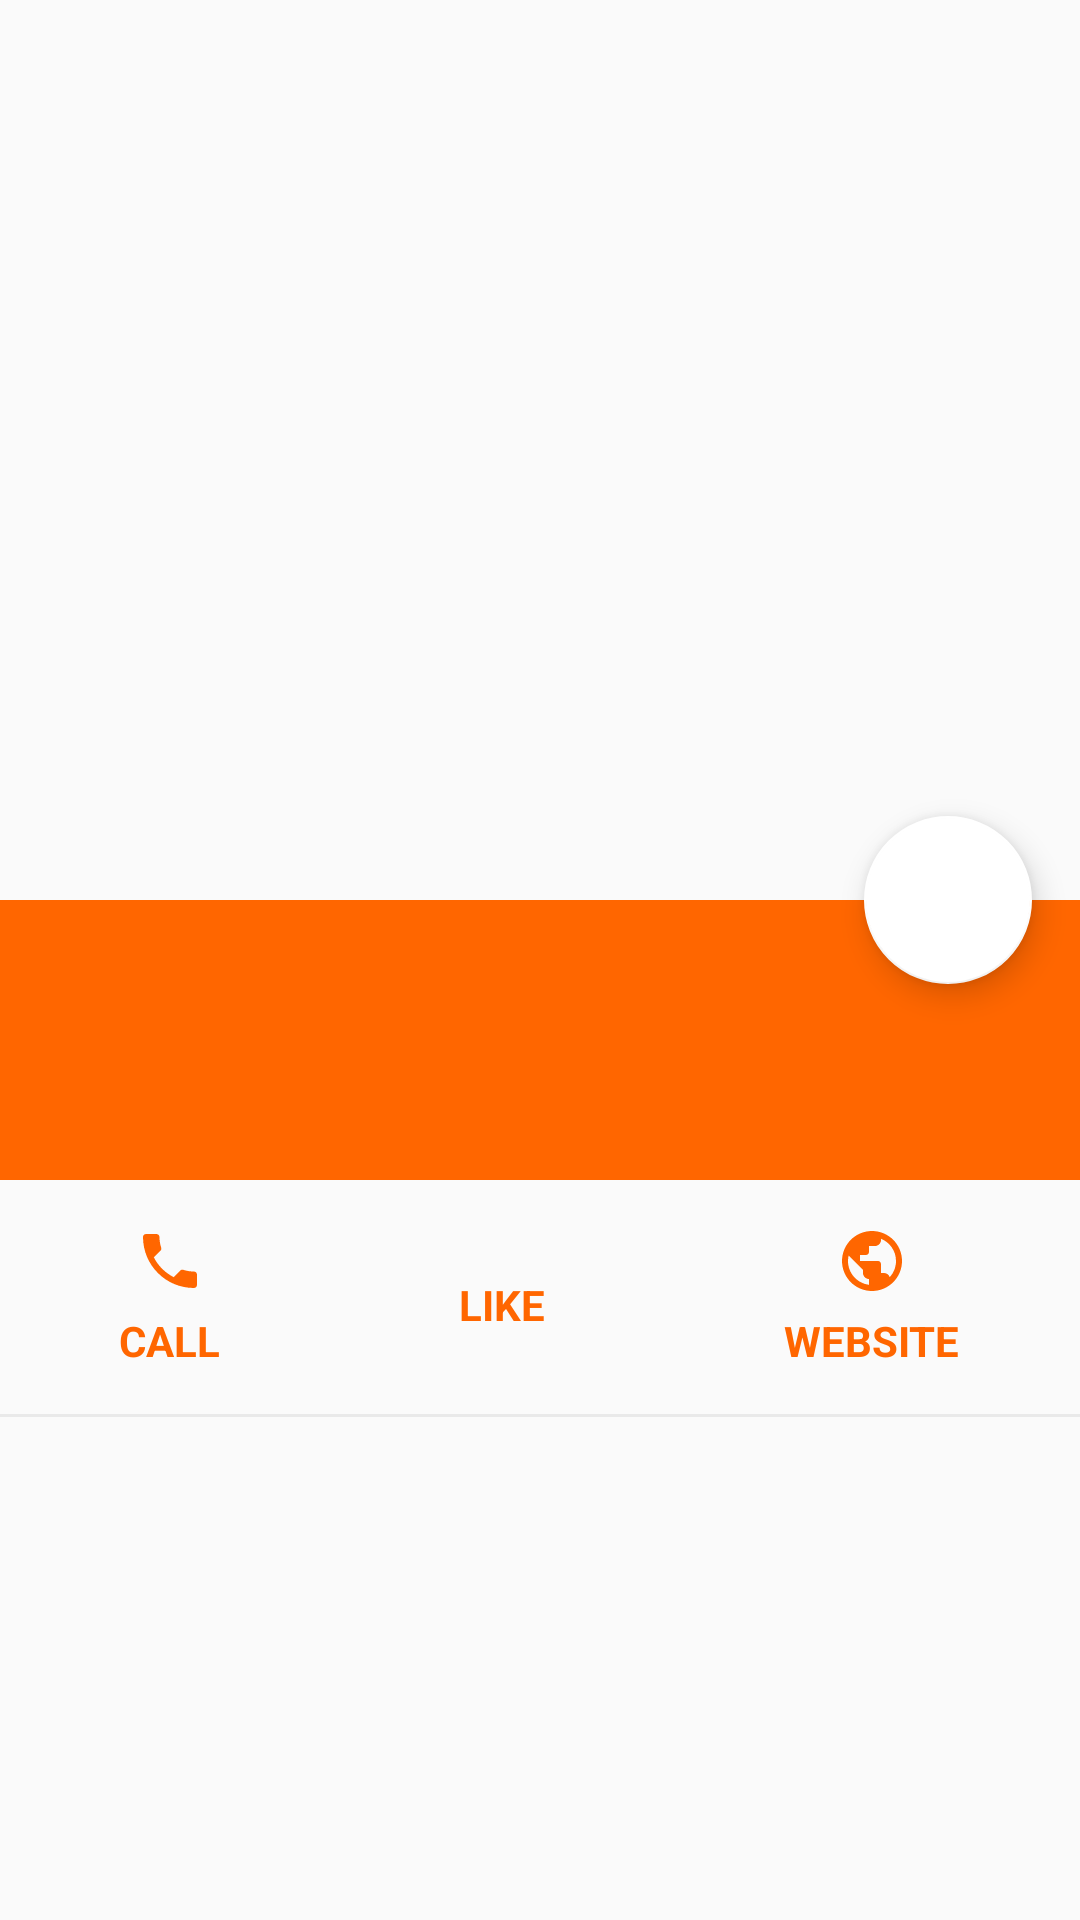

Screen size 1080 × 1920. Icon name, then its box in pixels as [x1,y1,x2,y2]:
phone: [143,1234,197,1288]
